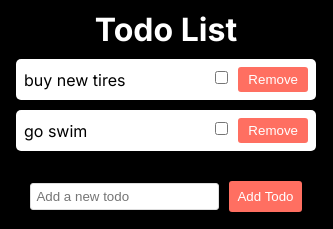
Test: todos spec › should remove first todo
The width and height of the screenshot is (333, 229).
Click the button with test id "todo-1-remove-button" at x=273, y=80, box [238,67,308,92]
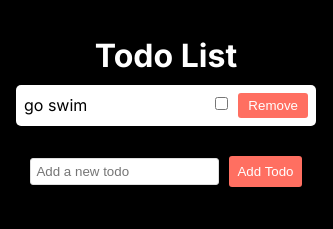
Check: the list item with test id "todo-1" is gone
